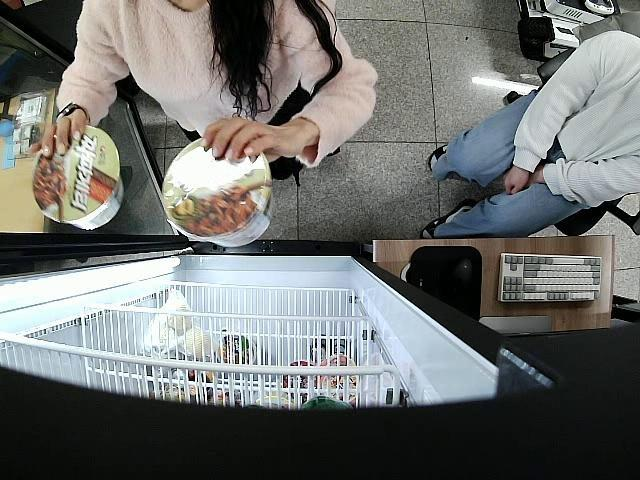03_chapagetti_L: (162, 138, 274, 247), (34, 126, 124, 230)
